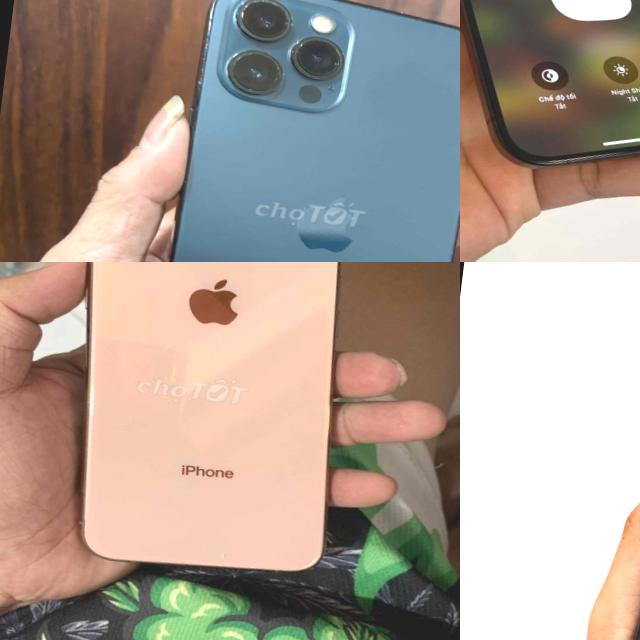gen_12_13: (135, 0, 460, 262)
gen_15: (460, 0, 640, 198)
gen_x_xs: (16, 262, 391, 596)
